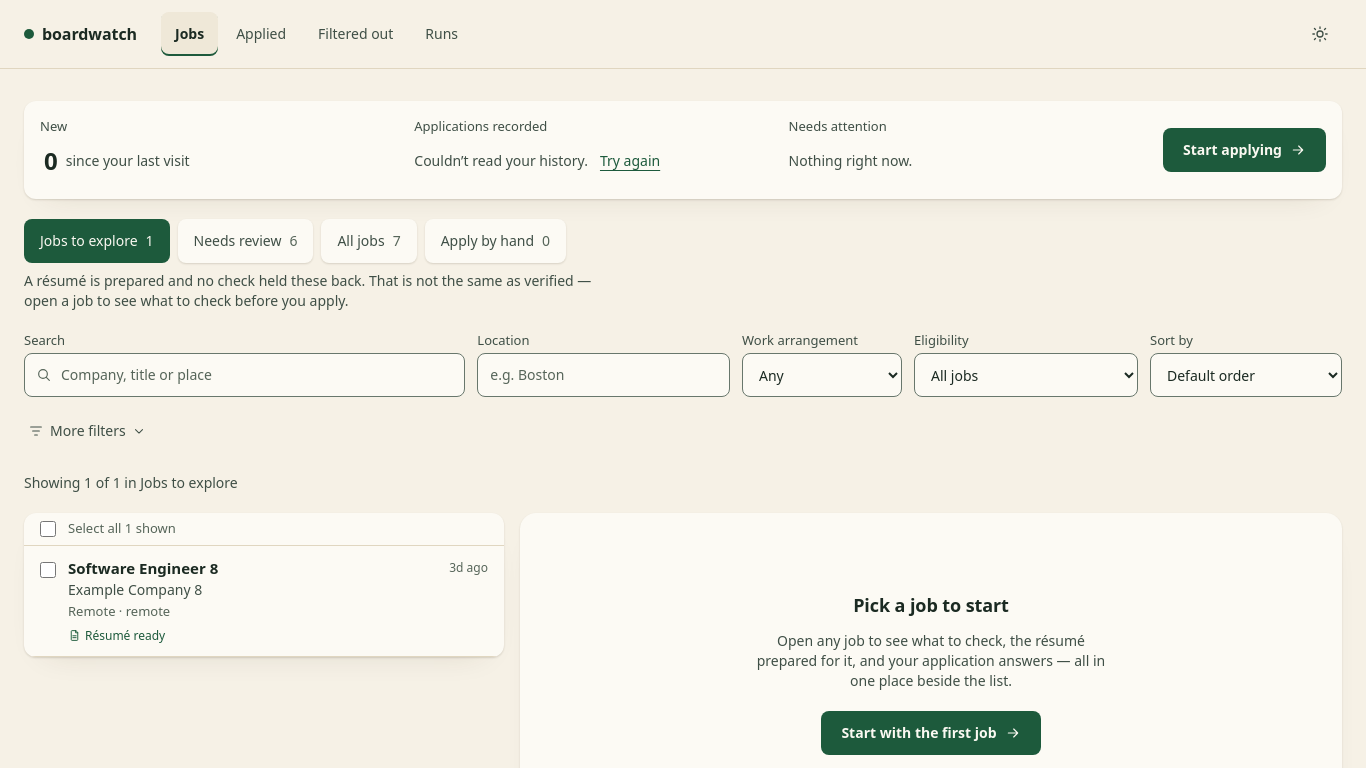
the generated review sentence › reaches the page, replacing the two hand-written reasons
Expected: the table named "Jobs to explore" is shown, [24,513,504,657]
Click the button "Needs review 6" at (245,241), box [178,219,313,263]
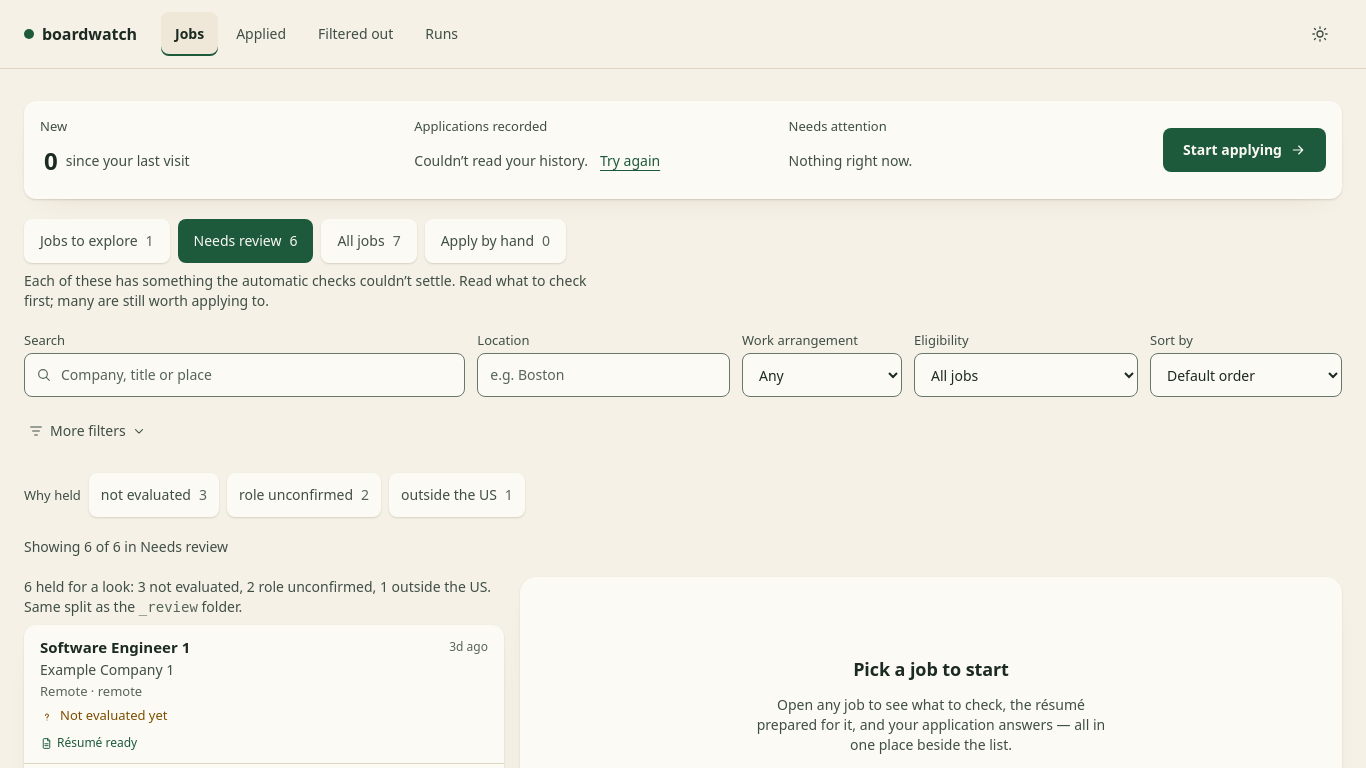
Now the text "6 held for a look: 3 not evaluated, 2 role unconfirmed, 1 outside the US" is shown, box [24,577,491,596]
Now the text "Same split as the" is shown, box [24,597,135,616]
